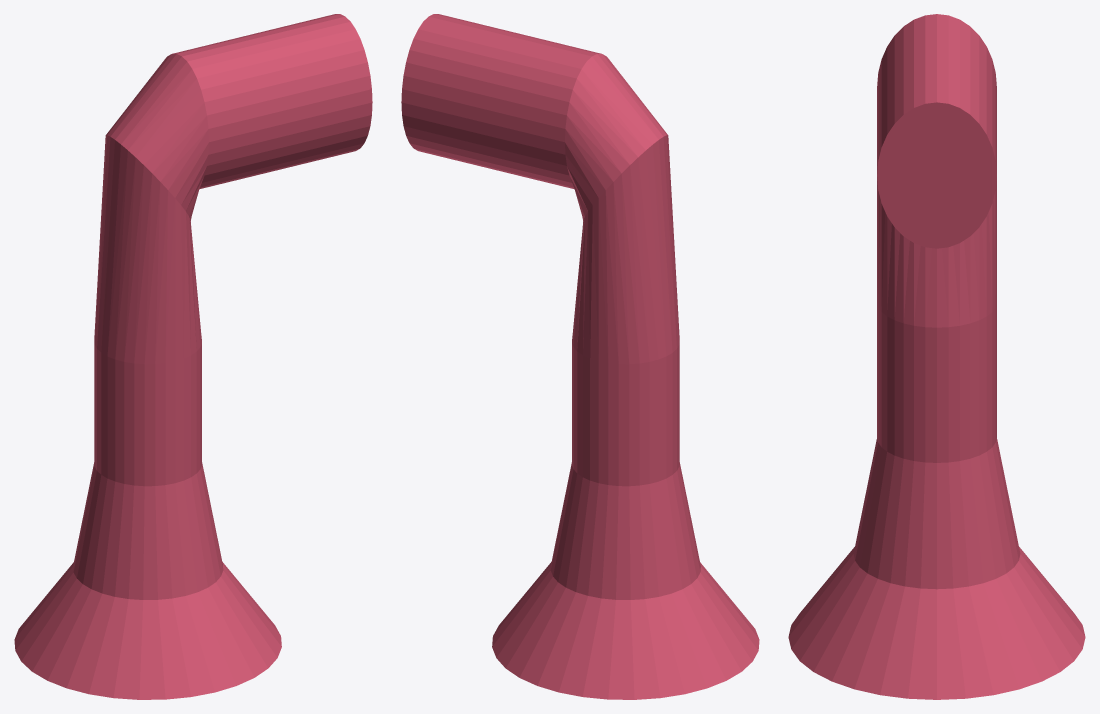
The picture shows the model from 3 angles, left to right: view 1: azimuth 30°, elevation 25°; view 2: azimuth 150°, elevation 25°; view 3: azimuth 270°, elevation 25°; orthographic projection. The views are drawn at different scales.
Parts seen in each view (by area): view 1: link_6; view 2: link_6; view 3: link_6.
Part boxes in pixels (left/top/right/bottom): link_6: left=14, top=14, right=372, bottom=699; link_6: left=401, top=14, right=759, bottom=699; link_6: left=788, top=14, right=1085, bottom=699.
Bounding box in the file's own units: 2.7 × 2 × 4.76.
